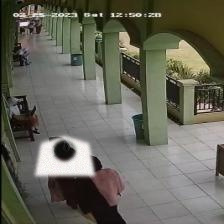Mukena: (35, 135, 94, 176)
